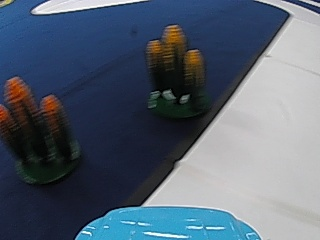corn: (6, 80, 81, 187), (143, 25, 212, 116)
